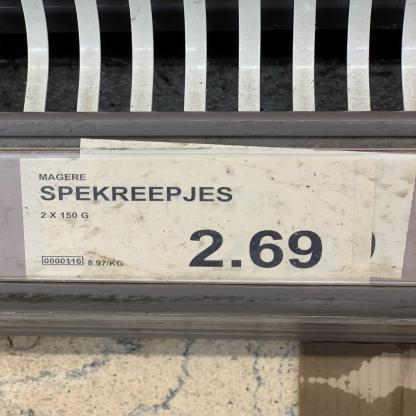prtg: (81, 139, 415, 280), (21, 156, 376, 286)
